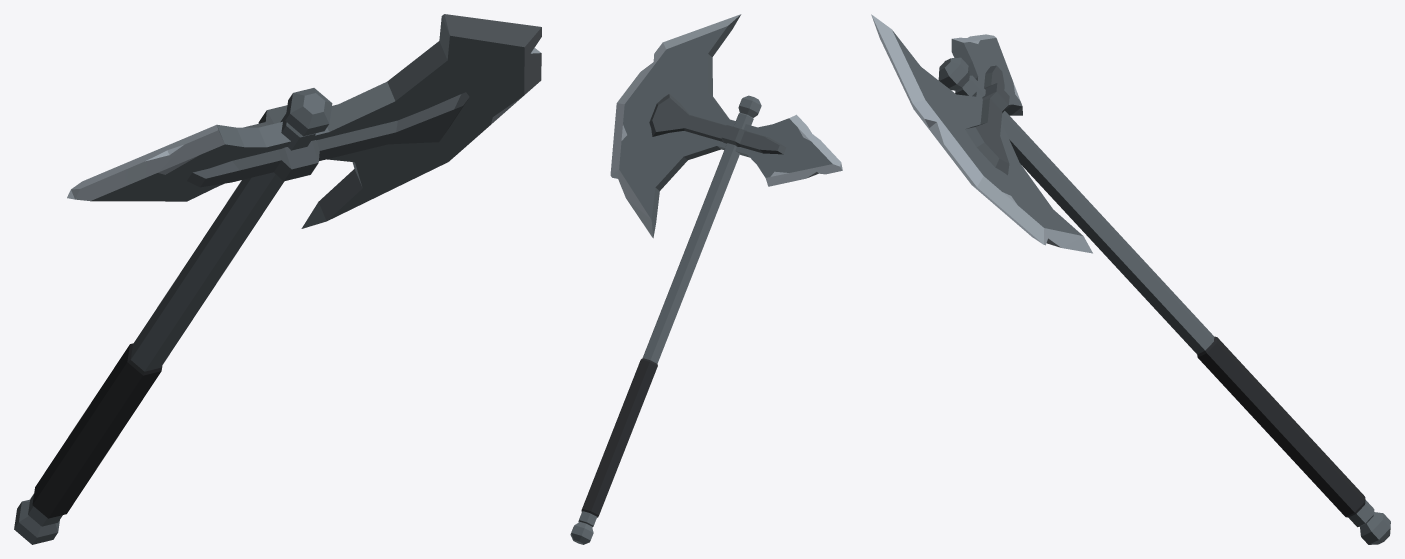
The model's file is fk-axe-02.glb.
The picture shows the model from 3 angles, left to right: view 1: azimuth 30°, elevation 25°; view 2: azimuth 150°, elevation 25°; view 3: azimuth 270°, elevation 25°; orthographic projection. The views are drawn at different scales.
Visible parts, largest first — view 1: fk-axe-02; view 2: fk-axe-02; view 3: fk-axe-02.
Boxes of the visible parts, bbox=[...] form: fk-axe-02: bbox=[14, 14, 541, 544]; fk-axe-02: bbox=[570, 14, 842, 544]; fk-axe-02: bbox=[871, 14, 1390, 544].
Bounding box in the file's own units: 0.7143 × 1.15 × 0.9982.
1 material, 1 textured.
